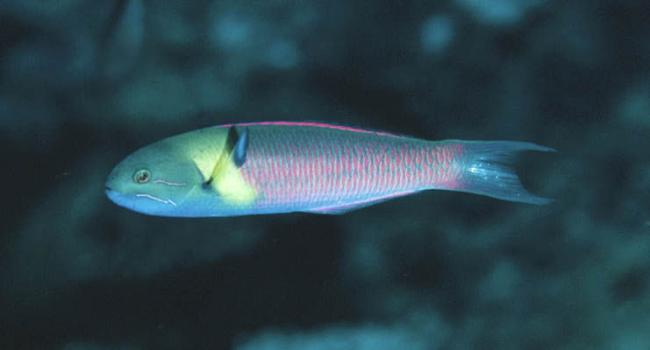fish: (104, 120, 556, 219)
